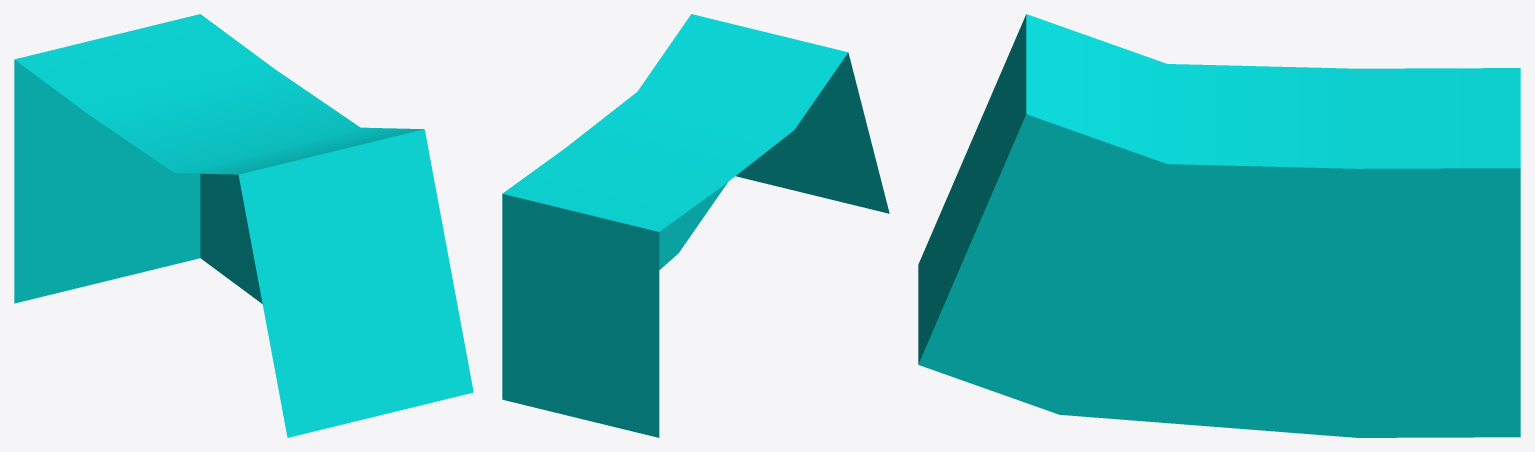
File: tile 5.fbx
The picture shows the model from 3 angles, left to right: view 1: azimuth 30°, elevation 25°; view 2: azimuth 150°, elevation 25°; view 3: azimuth 270°, elevation 25°; orthographic projection. The views are drawn at different scales.
Parts seen in each view (by area): view 1: pCube8; view 2: pCube8; view 3: pCube8.
Part boxes in pixels (x1,y1,x2,y2): pCube8: [14, 14, 473, 437]; pCube8: [502, 14, 889, 437]; pCube8: [918, 14, 1520, 437].
Size of the model in its own units: 5.28 by 7.97 by 13.43.
